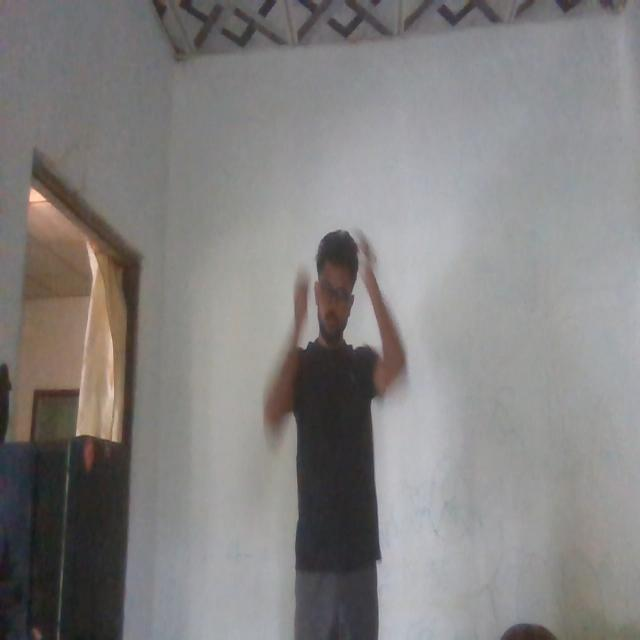Person: (270, 222, 416, 640)
